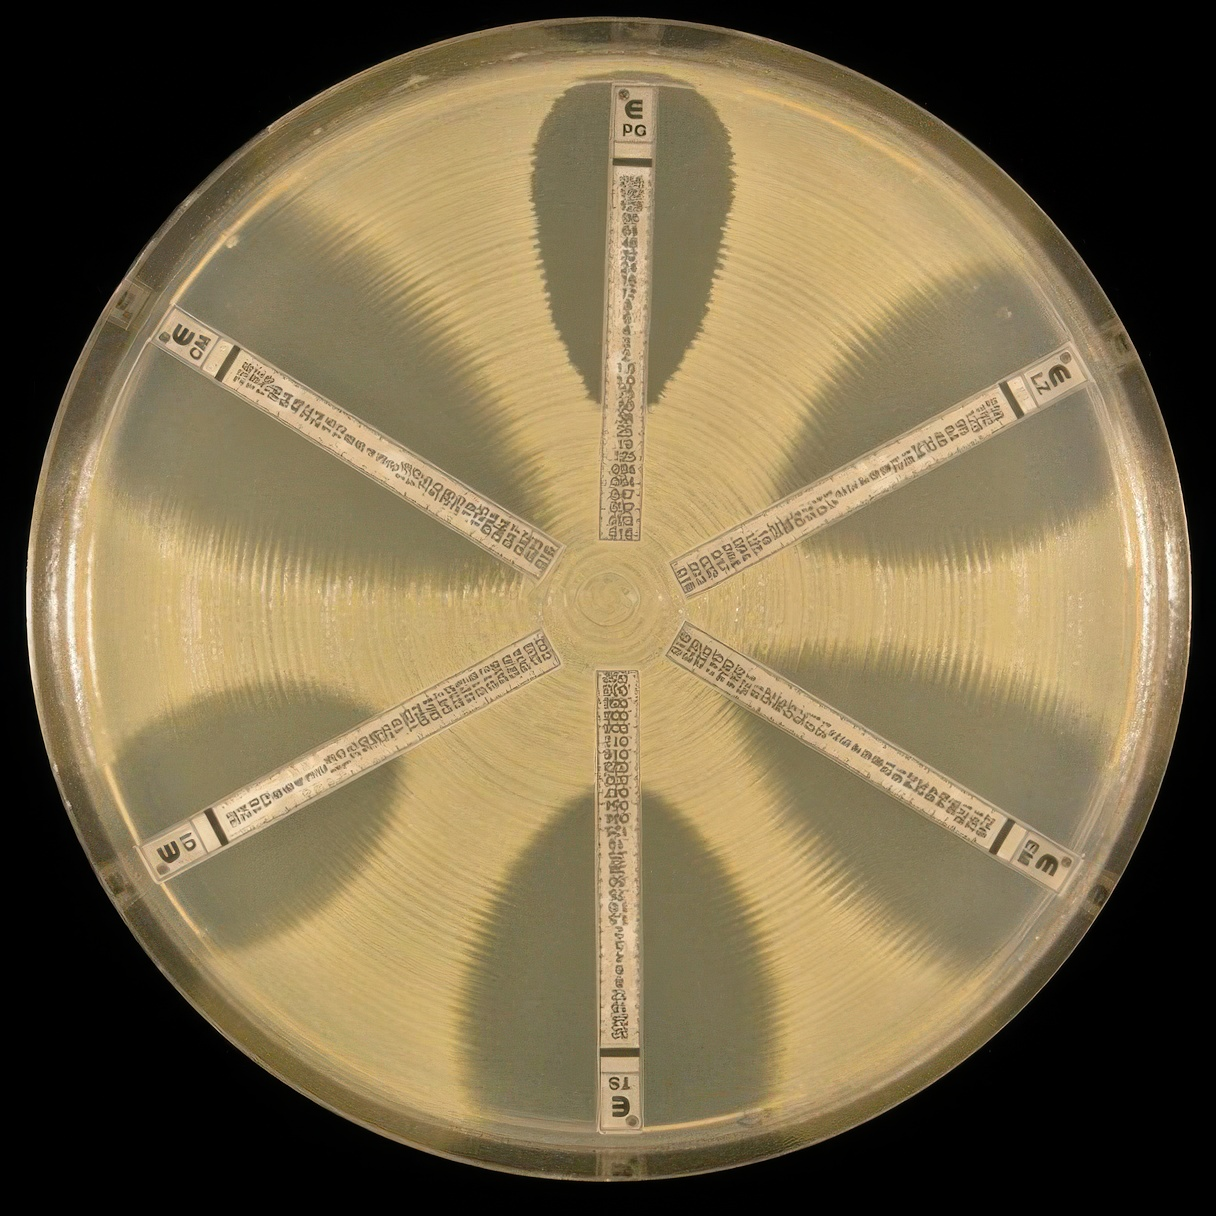line: (146, 303, 566, 585), (661, 619, 1083, 896), (131, 624, 563, 888), (669, 342, 1095, 601), (596, 82, 657, 542), (595, 668, 644, 1135)
zone: (51, 159, 626, 698), (669, 551, 1145, 992), (723, 241, 1153, 647), (76, 619, 449, 981), (458, 785, 776, 1132), (521, 65, 742, 409)
